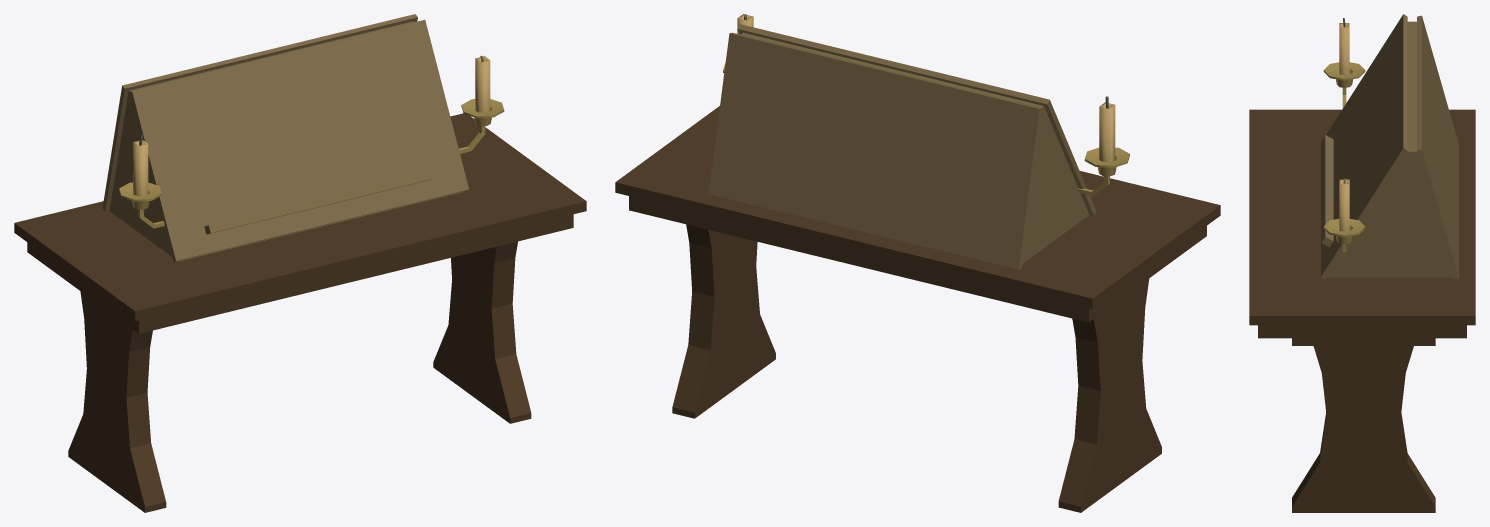
File: Desk.glb
3 renders of one model, left to right at view 1: azimuth 30°, elevation 25°; view 2: azimuth 150°, elevation 25°; view 3: azimuth 270°, elevation 25°, orthographic. The views are drawn at different scales.
Visible parts, largest first — view 1: Desk.001; view 2: Desk.001; view 3: Desk.001.
Part boxes in pixels (left/top/right/bottom): Desk.001: left=14, top=14, right=586, bottom=512; Desk.001: left=615, top=14, right=1220, bottom=512; Desk.001: left=1249, top=14, right=1475, bottom=512.
Bounding box in the file's own units: 1.9 × 1.48 × 0.8823.
Materials: 3 (3 with a texture image).
